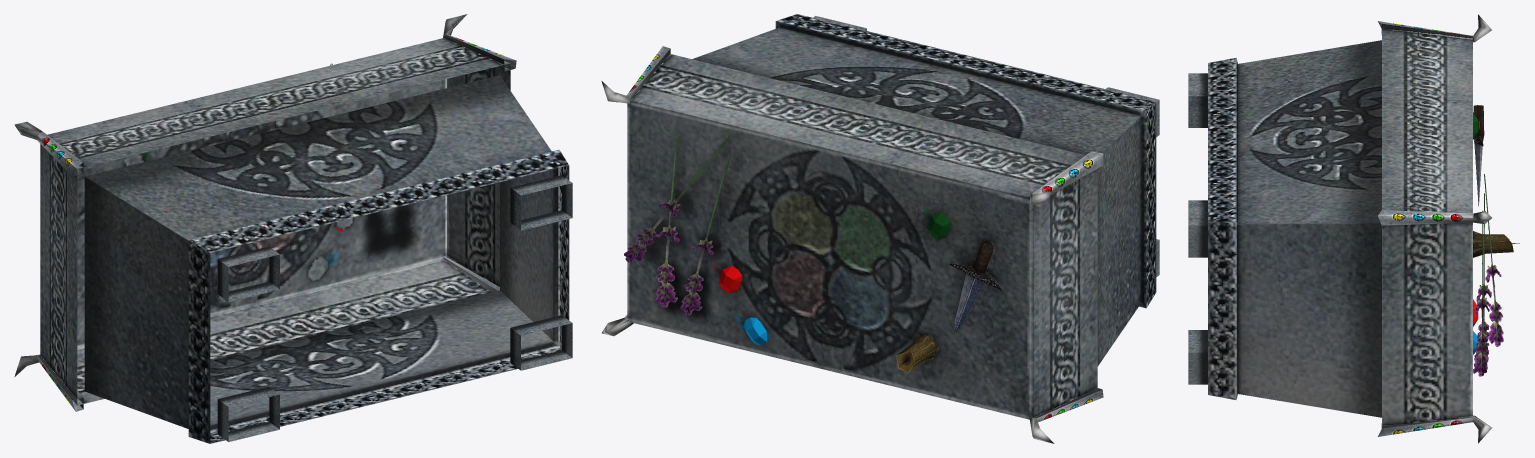
The model's file is altar-silver.dae.
3 renders of one model, left to right at view 1: azimuth 30°, elevation 25°; view 2: azimuth 150°, elevation 25°; view 3: azimuth 270°, elevation 25°, orthographic. The views are drawn at different scales.
Parts seen in each view (by area): view 1: altarsilver; view 2: altarsilver; view 3: altarsilver.
Boxes of the visible parts, x1,y1,x2,y2 form: altarsilver: (14,14,572,443); altarsilver: (601,14,1159,443); altarsilver: (1188,14,1519,443).
Bounding box in the file's own units: 108 × 57.58 × 75.56.
2 materials, 2 textured.
